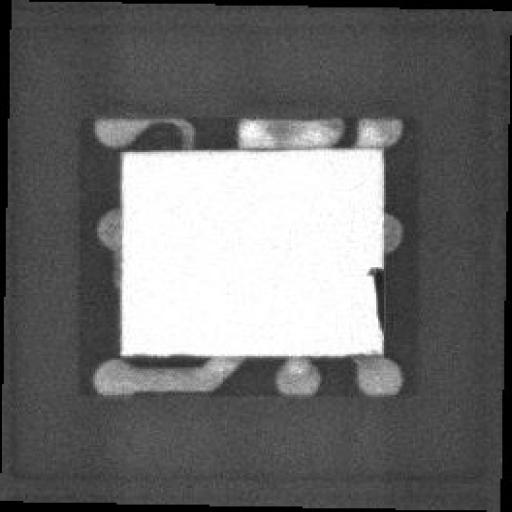DIE_BROKEN: (363, 262, 386, 328)
